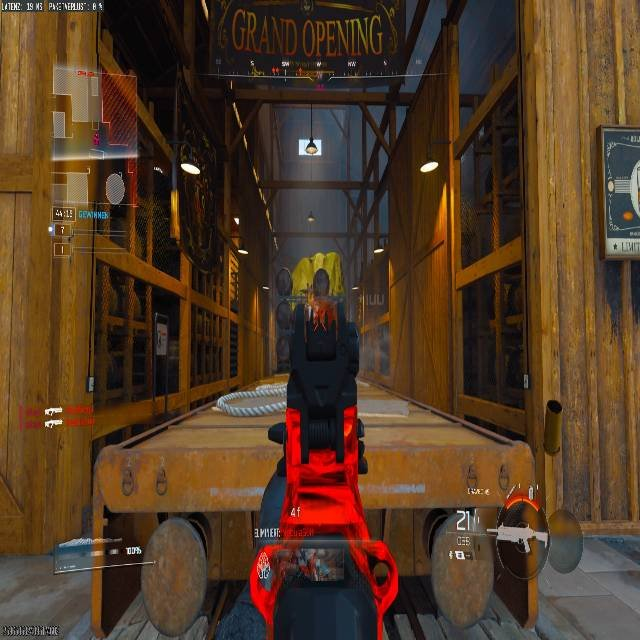player: (281, 264, 362, 443)
